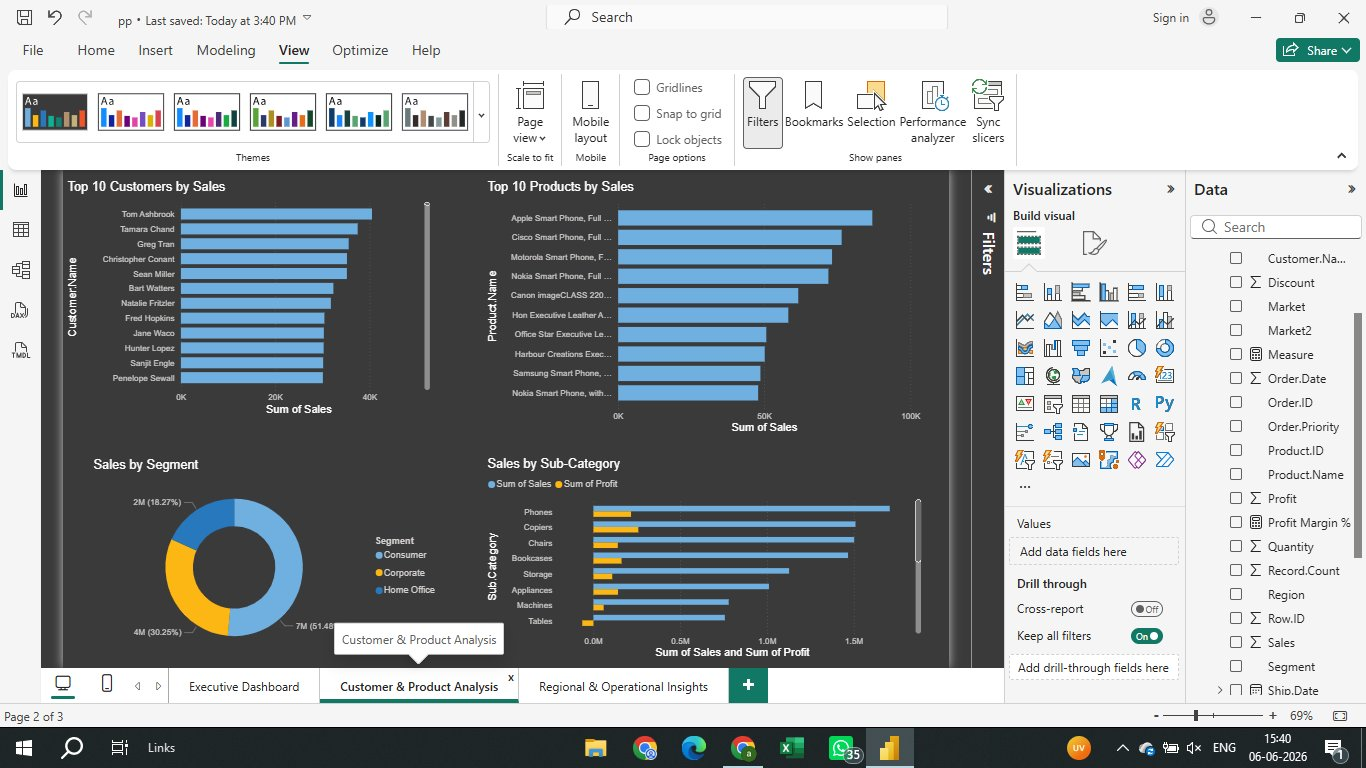

What the dashboard file says about the page in this screenshot:
{"tool":"powerbi","page":{"name":"Customer & Product Analysis","canvas":[1280,720],"ordinal":1},"visuals":[{"type":"clusteredBarChart","title":"Top 10 Customers by Sales","fields":{"Category":["superstore_fixed.Customer.Name"],"Y":["Sum(superstore_fixed.Sales)"]},"box":[1.7,13.4,534.2,346],"z":0},{"type":"clusteredBarChart","title":"Top 10 Products by Sales","fields":{"Category":["superstore_fixed.Product.Name"],"Y":["Sum(superstore_fixed.Sales)"]},"box":[608.1,13.4,636.6,372.9],"z":1000},{"type":"donutChart","title":"Sales by Segment","fields":{"Category":["superstore_fixed.Segment"],"Y":["Sum(superstore_fixed.Sales)"]},"box":[39.7,414.4,512.8,298.3],"z":2000},{"type":"clusteredBarChart","title":"Sales by Sub-Category","fields":{"Category":["superstore_fixed.Sub.Category"],"Y":["Sum(superstore_fixed.Sales)","Sum(superstore_fixed.Profit)"]},"box":[608,414,637,298],"z":3000}]}

Visuals, with their boxes on the page's 1280x720 design canvas (x1, y1, x2, y2). These are canvas units, not pixel positions in the 1366x768 screenshot, which may show the page scaled, cropped or inside an application window:
"Top 10 Customers by Sales" clusteredBarChart: x1=2 y1=13 x2=536 y2=359
"Top 10 Products by Sales" clusteredBarChart: x1=608 y1=13 x2=1245 y2=386
"Sales by Segment" donutChart: x1=40 y1=414 x2=552 y2=713
"Sales by Sub-Category" clusteredBarChart: x1=608 y1=414 x2=1245 y2=712
